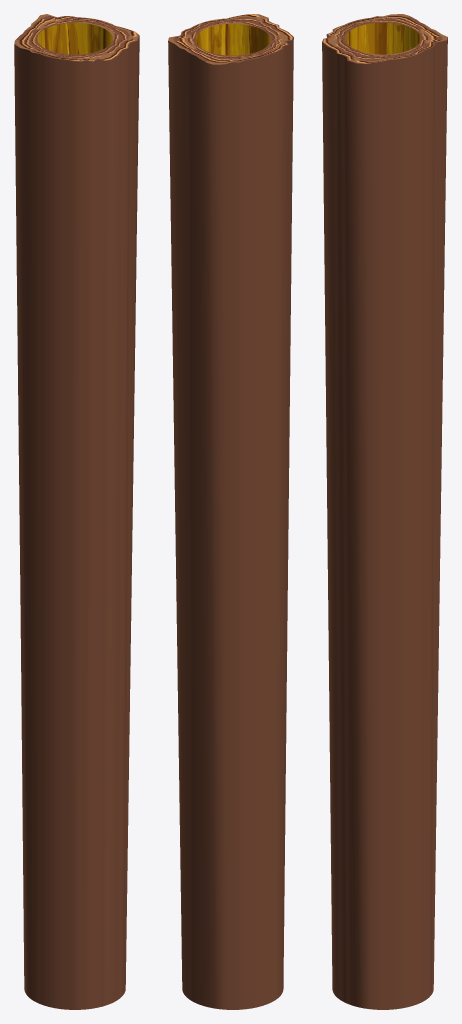
File: trunk modified3.fbx
The picture shows the model from 3 angles, left to right: view 1: azimuth 90°, elevation 25°; view 2: azimuth 150°, elevation 25°; view 3: azimuth 330°, elevation 25°; orthographic projection.
Visible parts, largest first — view 1: pCylinder1; view 2: pCylinder1; view 3: pCylinder1.
Part boxes in pixels (box(x1,y1,x2,y2)): pCylinder1: box(14, 14, 139, 1009); pCylinder1: box(168, 14, 293, 1009); pCylinder1: box(322, 14, 447, 1009).
Size of the model in its own units: 22.14 by 207 by 24.73.
Materials: 1 (1 with a texture image).
